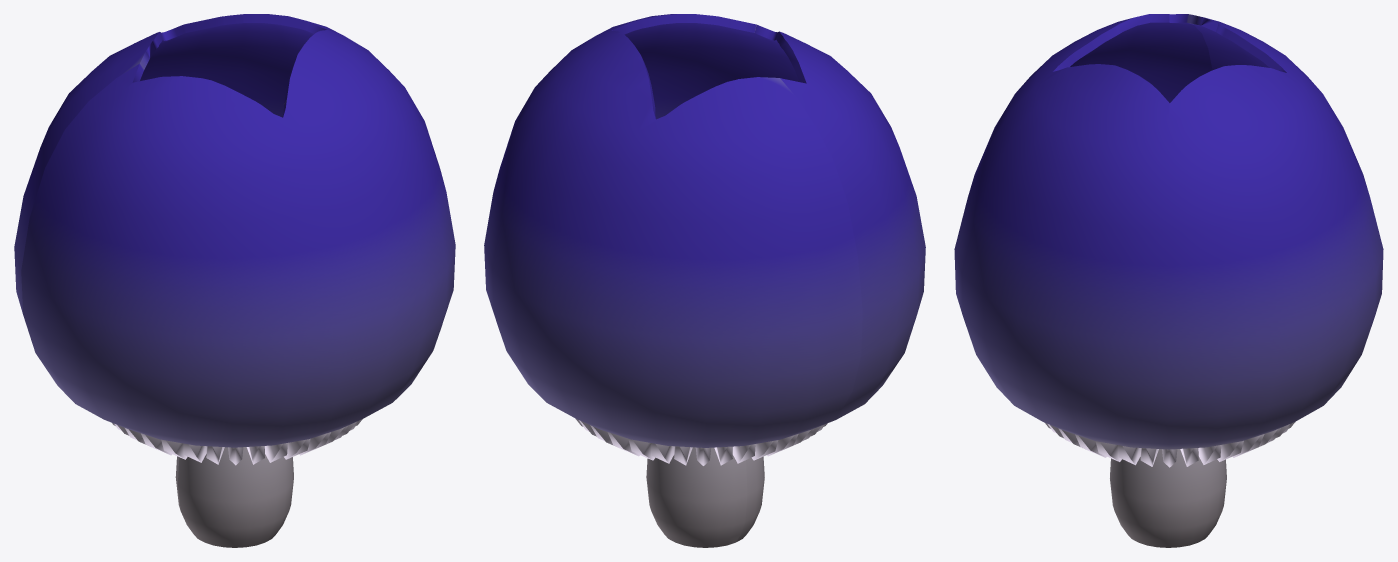
Rendered from Mushroom_Teleporte.fbx.
3 views of the same model, side by side, from view 1: azimuth 30°, elevation 25°; view 2: azimuth 150°, elevation 25°; view 3: azimuth 270°, elevation 25° (orthographic).
Parts seen in each view (by area): view 1: Cylinder.002, Cylinder.003; view 2: Cylinder.002, Cylinder.003; view 3: Cylinder.002, Cylinder.003.
Part boxes in pixels (bbox=[...]): Cylinder.002: bbox=[14, 14, 455, 447]; Cylinder.003: bbox=[112, 419, 362, 547]; Cylinder.002: bbox=[484, 14, 925, 447]; Cylinder.003: bbox=[575, 418, 827, 547]; Cylinder.002: bbox=[954, 14, 1383, 449]; Cylinder.003: bbox=[1044, 421, 1295, 547].
Bounding box in the file's own units: 50.11 × 60.86 × 48.89.
